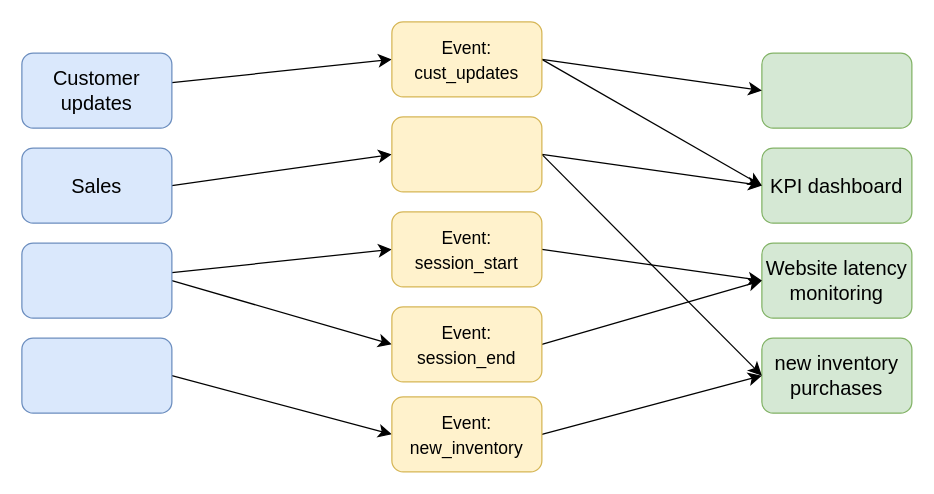
This 934x494 diagram has some shape labels left out. Here are the shapes that lost their labels. From the top down, the box of each, then its label:
(761, 52, 912, 128): Salesforce
(391, 116, 542, 192): Event: sale
(21, 242, 172, 318): Website analytics
(21, 337, 172, 413): Inventory updates
